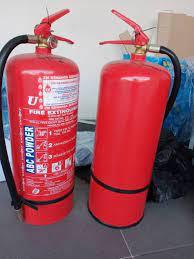wall-mounted: (87, 9, 182, 232), (0, 8, 80, 226)
